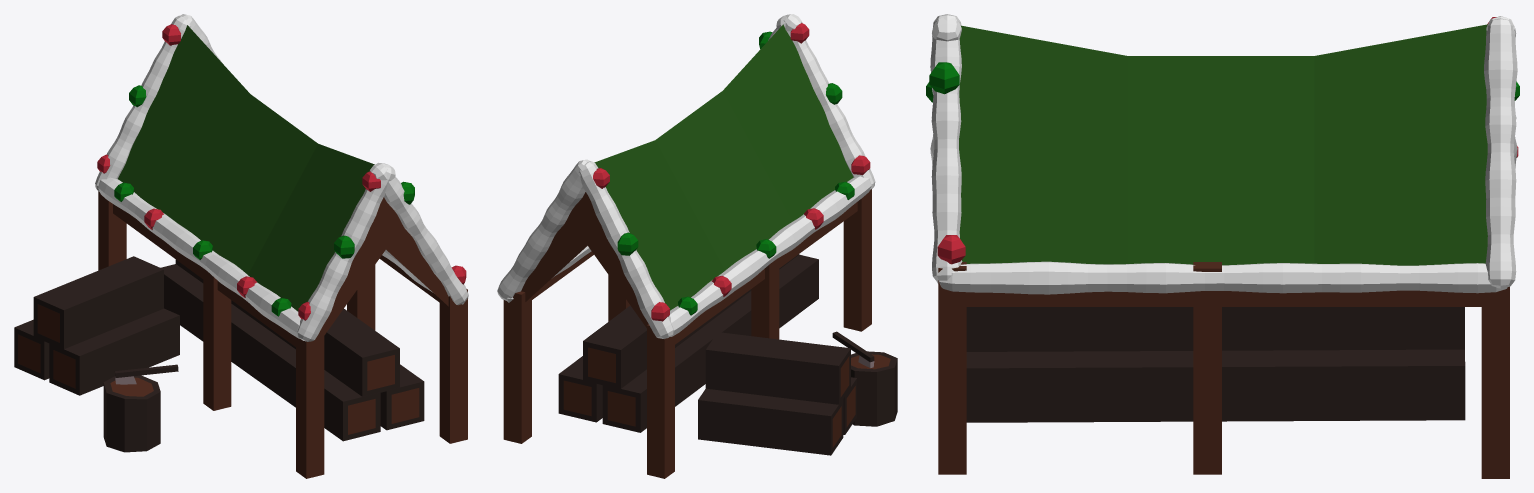
Rendered from Lumberjack.fbx.
The picture shows the model from 3 angles, left to right: view 1: azimuth 30°, elevation 25°; view 2: azimuth 150°, elevation 25°; view 3: azimuth 270°, elevation 25°; orthographic projection. The views are drawn at different scales.
Parts seen in each view (by area): view 1: Home Base.005, Cube.026, Cube.031, Cube.029, Cube.028, Frosting Edge.030, Support Pillar.019, Support Pillar.018, Cylinder.001, Support Pillar.014, Frosting Edge.033, Frosting Edge.032 (+6 smaller); view 2: Home Base.005, Cube.031, Cube.030, Cube.026, Frosting Edge.030, Cube.028, Support Pillar.017, Support Pillar.016, Support Pillar.018, Frosting Edge.035, Frosting Edge.034, Cylinder.001 (+6 smaller); view 3: Home Base.005, Cube.027, Cube.028, Frosting Edge.031, Frosting Edge.034, Frosting Edge.032, Support Pillar.015, Support Pillar.019, Support Pillar.017, Sphere.056, Frosting Edge.033, Sphere.066.
Part boxes in pixels (x1,y1,x2,y2): Home Base.005: (113, 25, 448, 346); Cube.026: (160, 264, 380, 441); Cube.031: (33, 256, 163, 349); Cube.029: (49, 308, 179, 395); Cube.028: (175, 259, 399, 396); Frosting Edge.030: (98, 177, 300, 338); Support Pillar.019: (439, 289, 467, 443); Support Pillar.018: (296, 324, 324, 478); Cylinder.001: (103, 375, 160, 452); Support Pillar.014: (203, 268, 231, 410); Frosting Edge.033: (297, 163, 395, 341); Frosting Edge.032: (370, 162, 468, 305); Home Base.005: (521, 24, 857, 344); Cube.031: (705, 332, 850, 404); Cube.030: (698, 388, 843, 455); Cube.026: (602, 254, 818, 432); Frosting Edge.030: (670, 176, 871, 336); Cube.028: (583, 254, 799, 389); Support Pillar.017: (503, 291, 531, 443); Support Pillar.016: (647, 324, 674, 478); Support Pillar.018: (843, 189, 871, 331); Frosting Edge.035: (579, 161, 673, 338); Frosting Edge.034: (497, 159, 589, 300); Cylinder.001: (851, 351, 897, 426); Home Base.005: (959, 24, 1487, 306); Cube.027: (966, 349, 1465, 422); Cube.028: (966, 307, 1464, 351); Frosting Edge.031: (937, 261, 1507, 294); Frosting Edge.034: (1484, 18, 1517, 288); Frosting Edge.032: (930, 14, 962, 282); Support Pillar.015: (1193, 262, 1221, 474); Support Pillar.019: (938, 262, 966, 474); Support Pillar.017: (1481, 286, 1509, 478); Sphere.056: (929, 62, 959, 94); Frosting Edge.033: (930, 17, 961, 165); Sphere.066: (937, 235, 965, 264).
Size of the model in its own units: 126 by 122 by 160.
